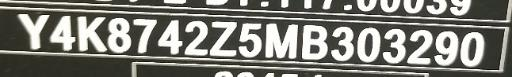letter: (262, 22, 300, 59), (16, 11, 50, 52), (76, 13, 108, 52), (48, 13, 78, 54), (299, 22, 329, 61), (208, 20, 238, 57), (132, 16, 158, 55), (237, 21, 263, 60), (329, 25, 355, 64), (355, 25, 381, 64), (406, 28, 432, 67), (433, 29, 459, 68), (105, 16, 131, 53), (157, 17, 183, 54), (183, 19, 209, 56), (380, 27, 406, 64), (459, 30, 485, 67)
